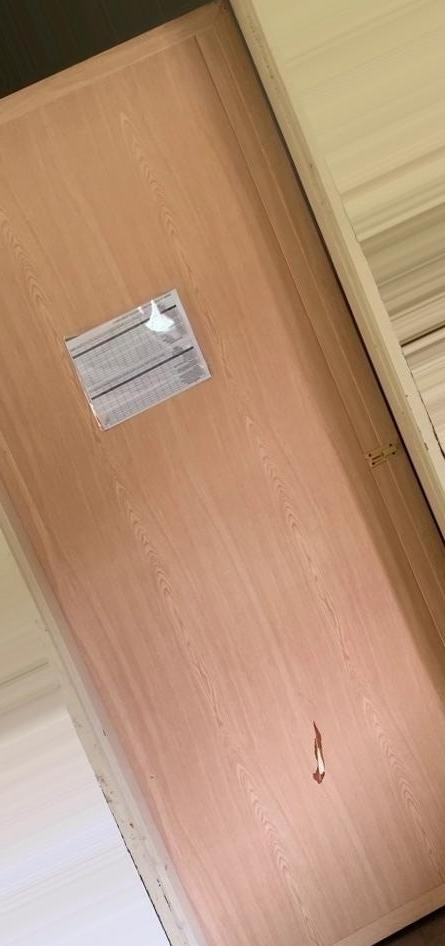door: (0, 9, 445, 946)
